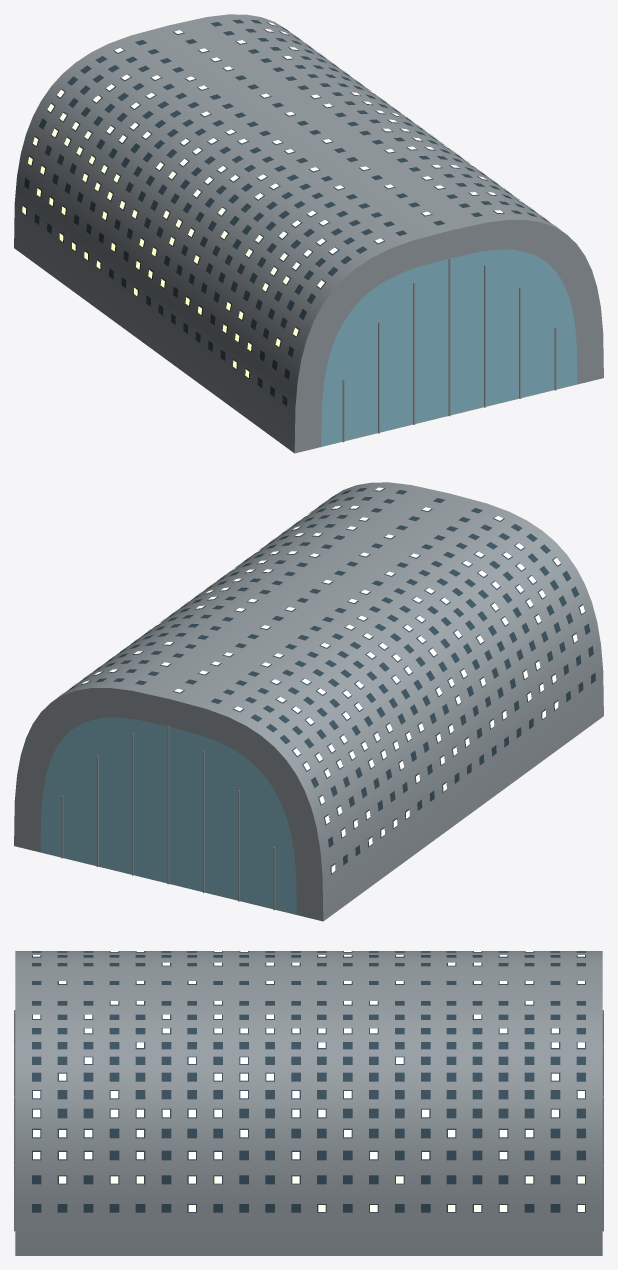
The model's file is markthal.glb.
3 views of the same model, one above another, from view 1: azimuth 30°, elevation 25°; view 2: azimuth 150°, elevation 25°; view 3: azimuth 270°, elevation 25° (orthographic). The views are drawn at different scales.
Parts seen in each view (by area): view 1: boog, kop-voor, ramen, ramen-licht; view 2: boog, kop-achter, ramen, ramen-licht; view 3: boog, ramen, ramen-licht.
Boxes of the visible parts, x1,y1,x2,y2 form: boog: (14, 14, 603, 453); kop-voor: (321, 249, 577, 446); ramen: (22, 19, 556, 406); ramen-licht: (22, 22, 524, 377); boog: (14, 482, 603, 921); kop-achter: (40, 717, 296, 914); ramen: (61, 487, 595, 874); ramen-licht: (82, 487, 584, 872); boog: (15, 951, 602, 1255); ramen: (32, 951, 585, 1212); ramen-licht: (33, 950, 584, 1211).
Bounding box in the file's own units: 70.04 × 40.16 × 110.
